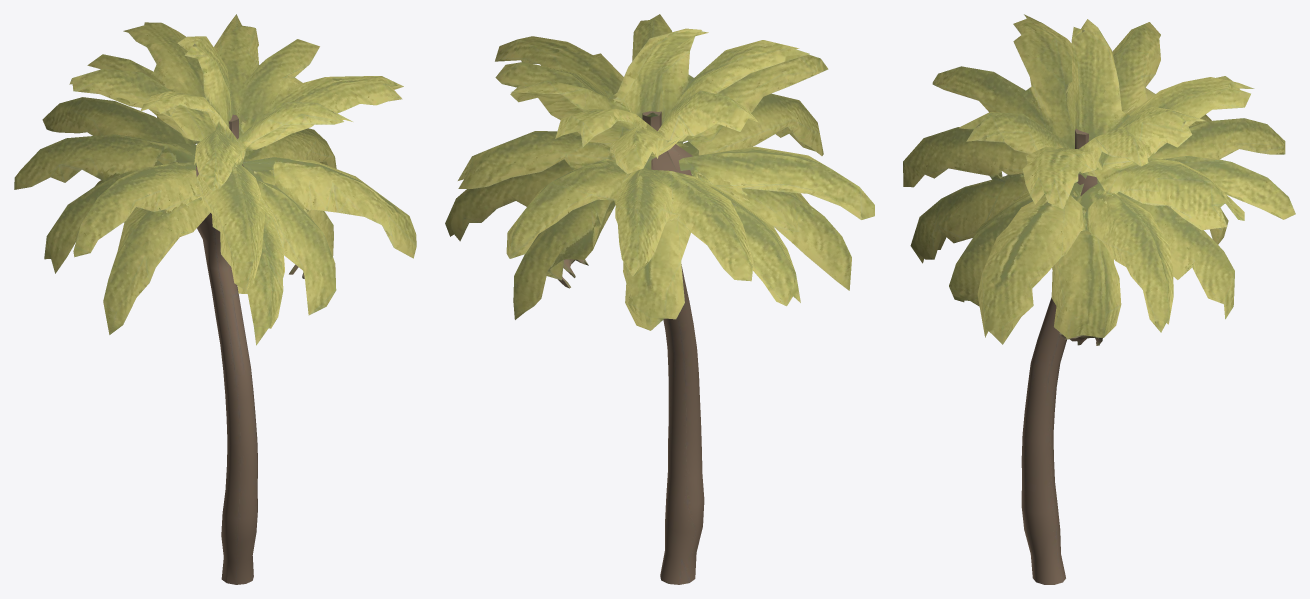
Rendered from palm_b.glb.
3 renders of one model, left to right at view 1: azimuth 30°, elevation 25°; view 2: azimuth 150°, elevation 25°; view 3: azimuth 270°, elevation 25°, orthographic. The views are drawn at different scales.
Visible parts, largest first — view 1: body; view 2: body; view 3: body.
Boxes of the visible parts, bbox=[...] form: body: bbox=[14, 14, 416, 584]; body: bbox=[445, 14, 874, 584]; body: bbox=[903, 14, 1295, 584].
Size of the model in its own units: 4.34 by 6.5 by 4.3.
2 materials, 2 textured.
